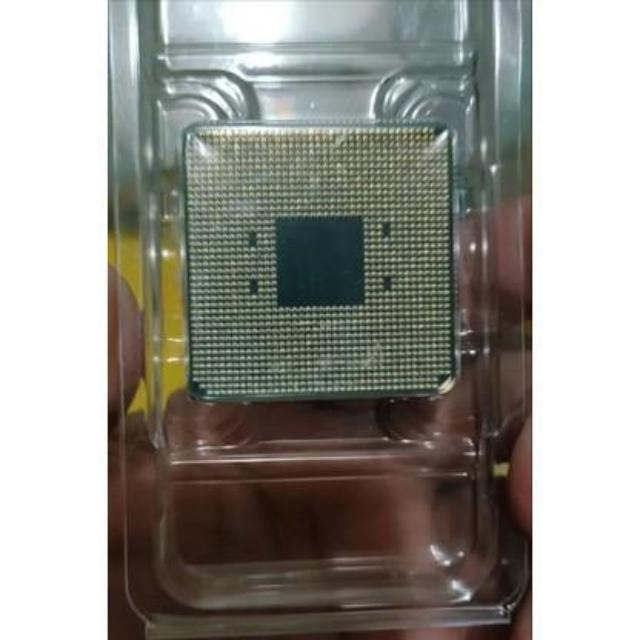CPU: (184, 123, 452, 394)
